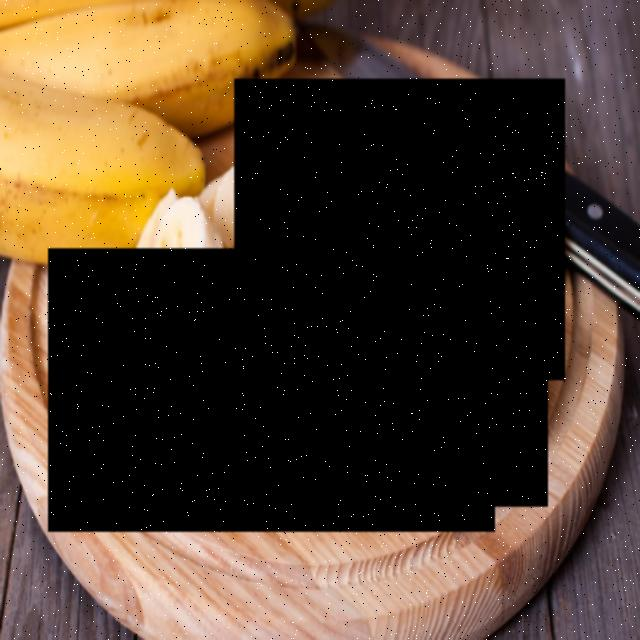Banana: (48, 249, 495, 533), (234, 78, 566, 380), (358, 188, 548, 507)
